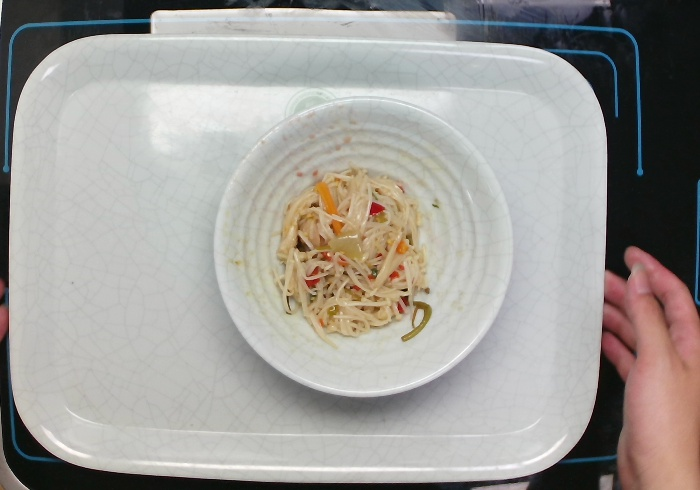JYsf-Xiao_Tang_Wan: (212, 93, 514, 399)
